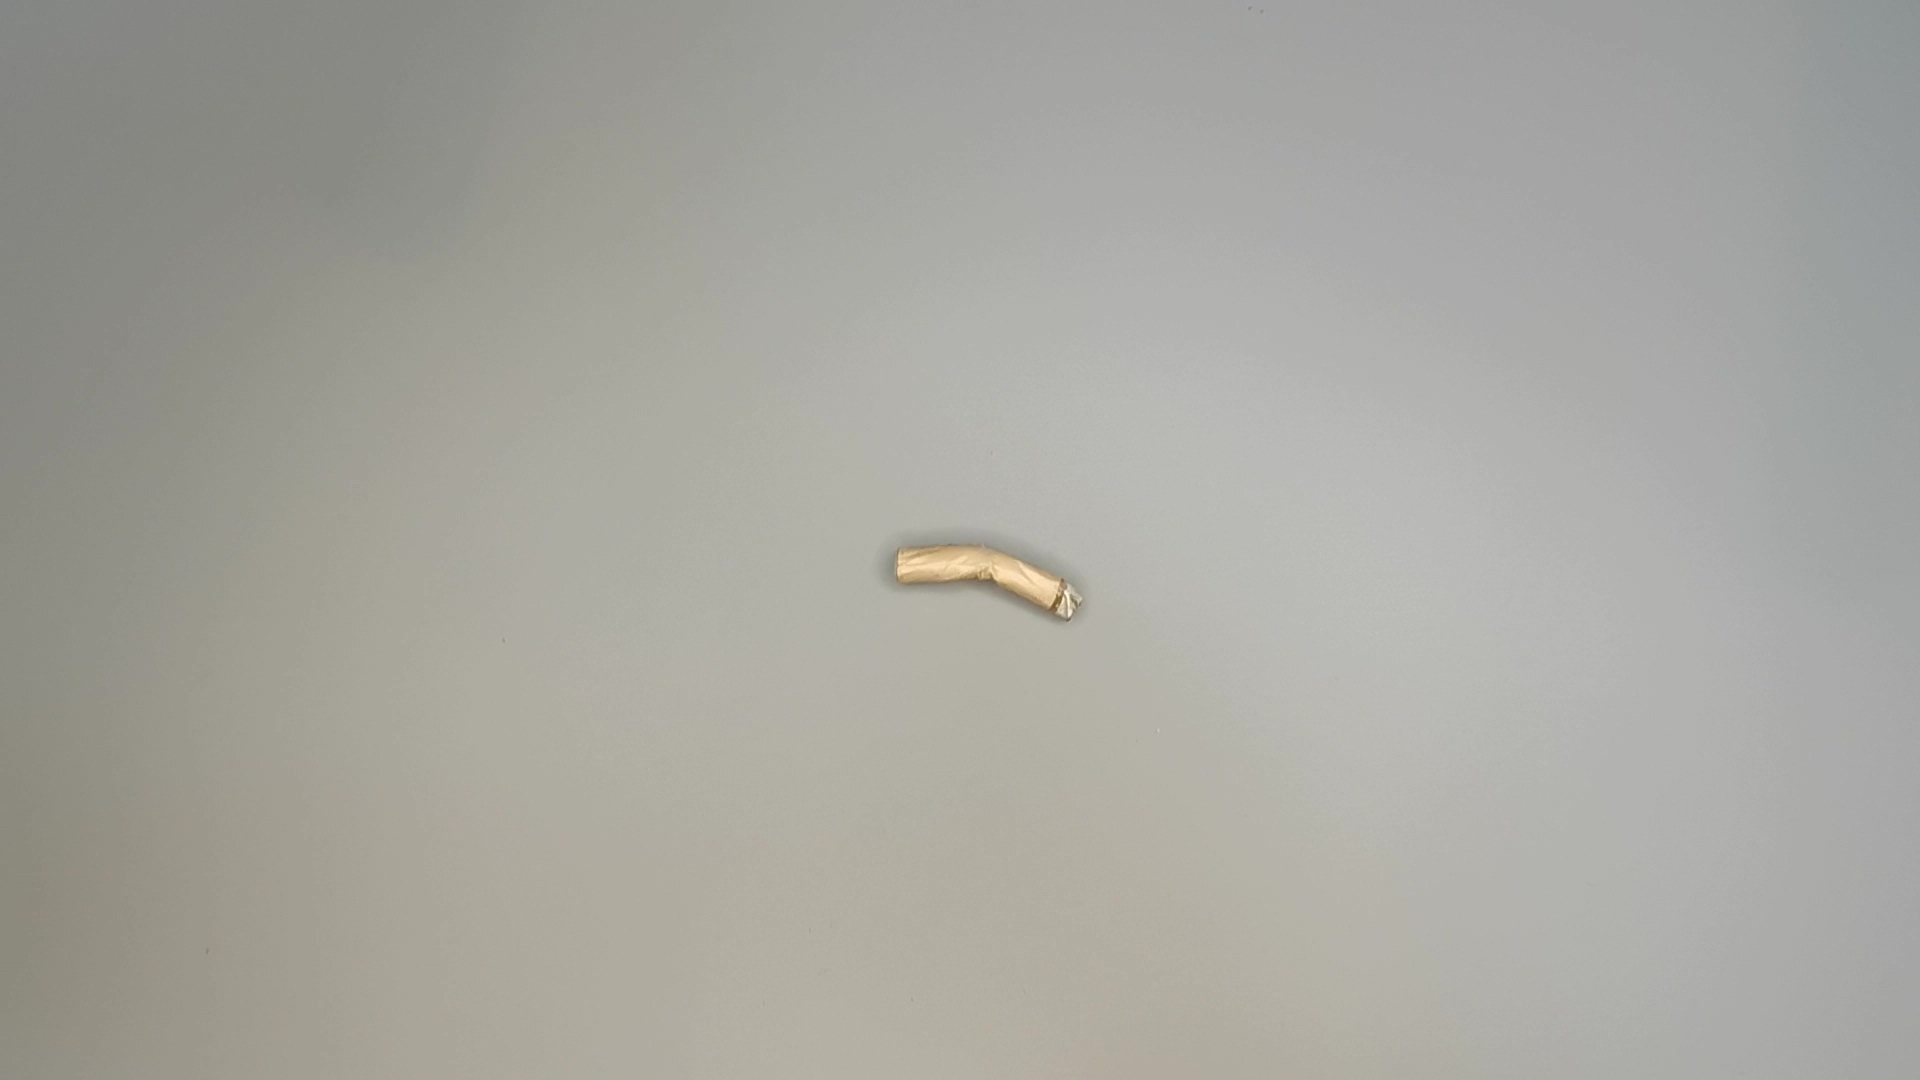cigarette: (886, 538, 1092, 638)
